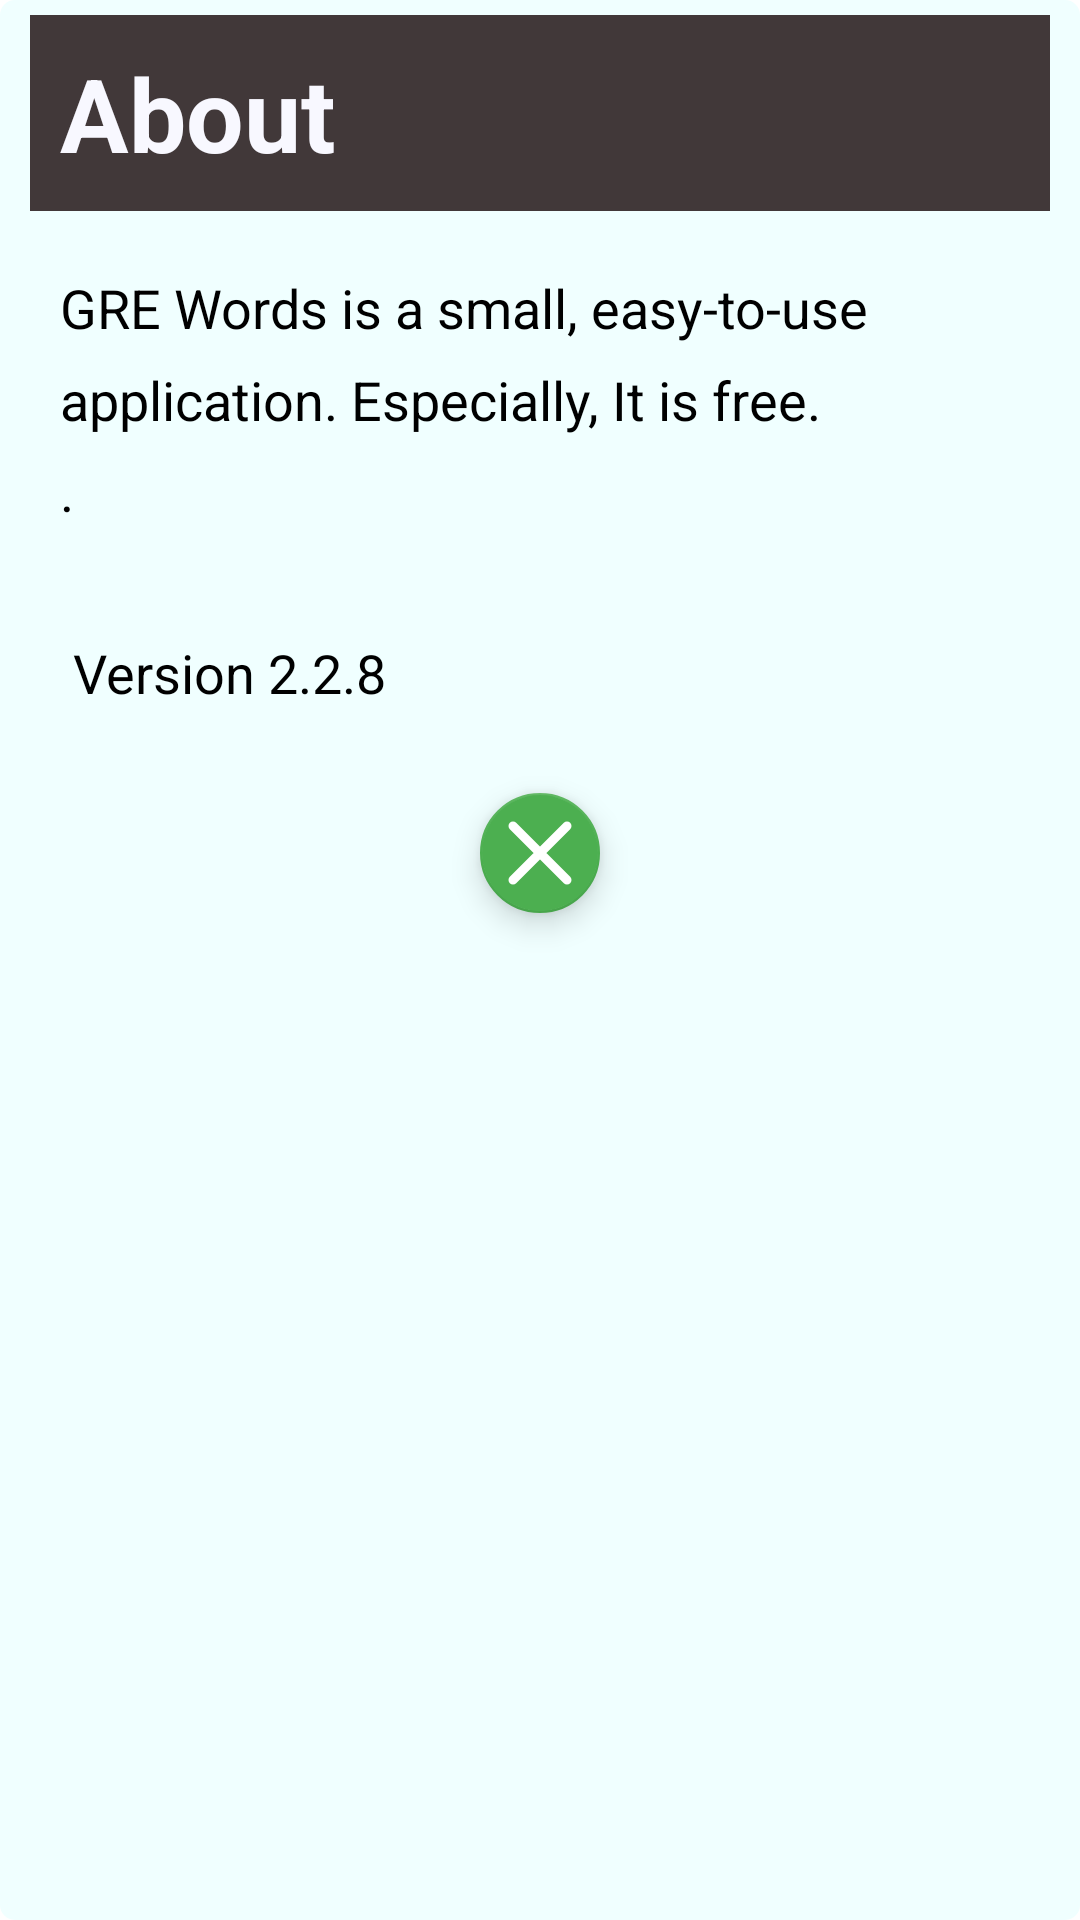

Locate icon controls on the screen. Image size 1080x1920, boxes as (x1, y1, x2, y2).
cancel: (480, 793, 600, 913)
